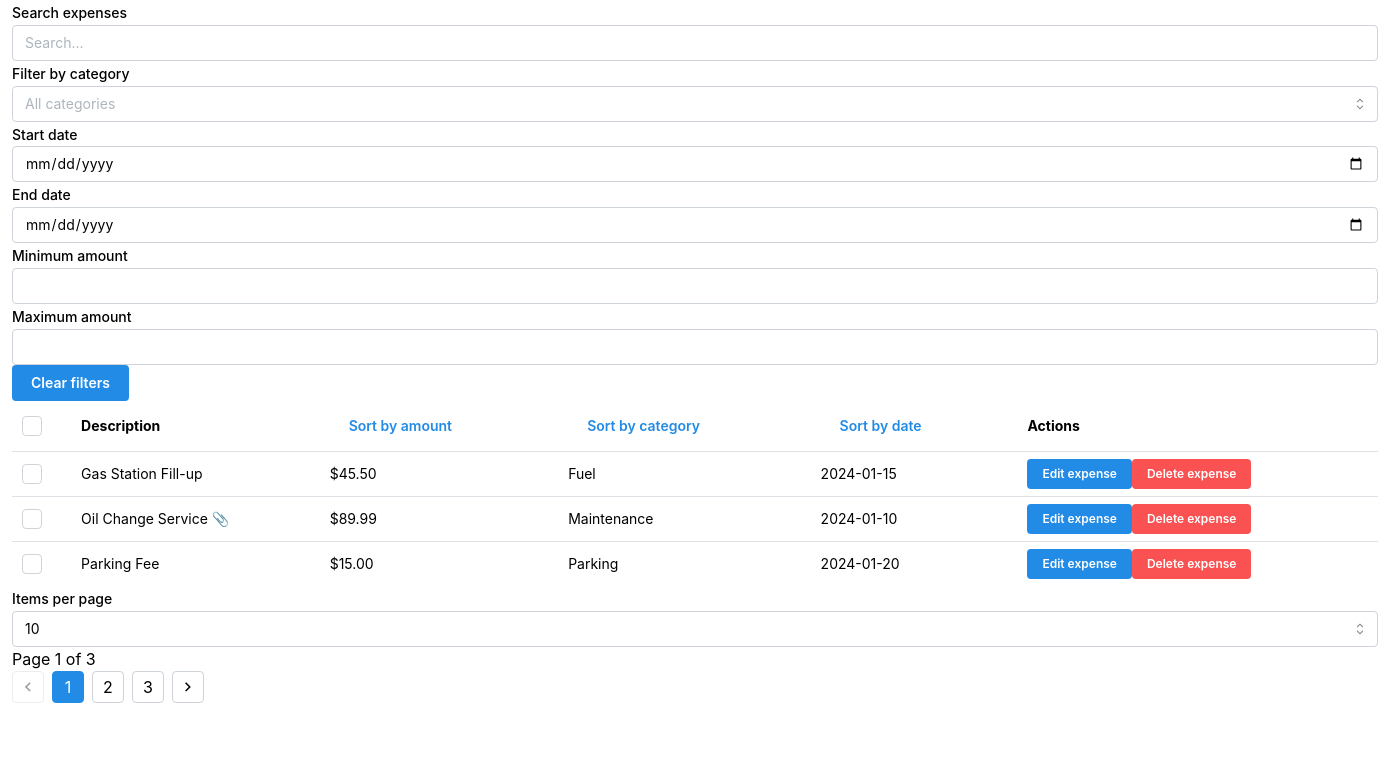
ExpenseList › Sorting › should allow sorting by amount
Click the button with test id "sort-amount" at (400, 426), box [330,408,471,444]
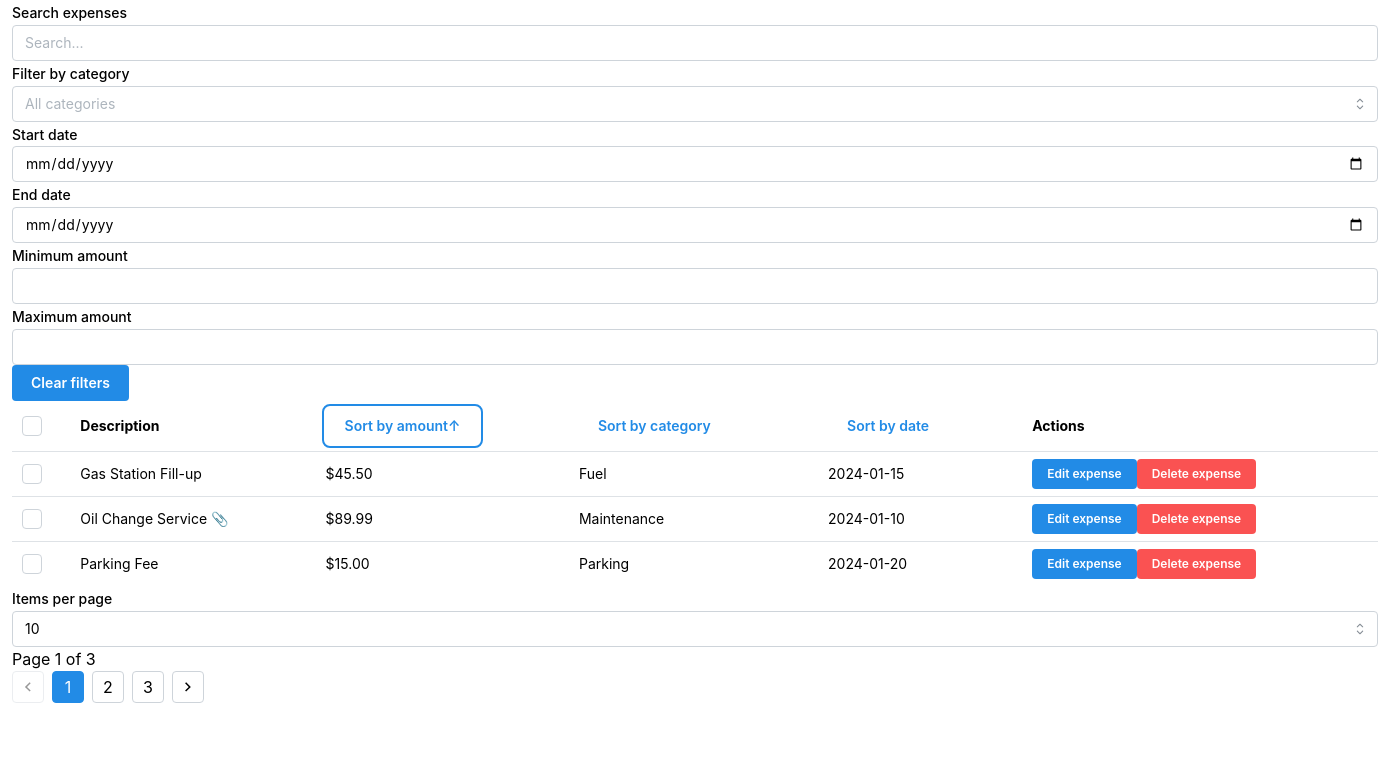
Now the text "↑" is shown, box [448,419,460,433]
